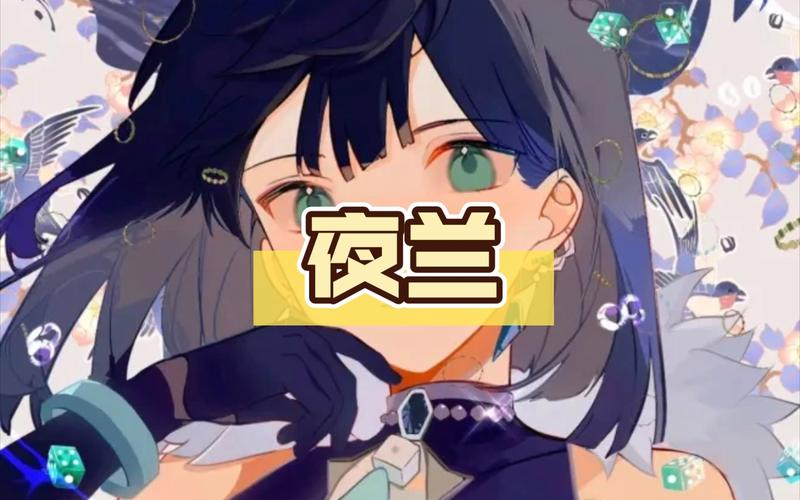夜兰: (1, 2, 746, 500)
